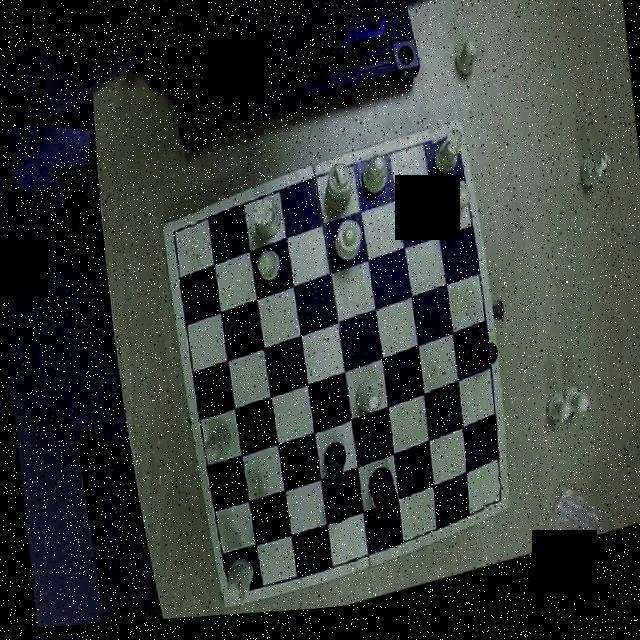chess-table-corners: (426, 124, 462, 164), (162, 212, 198, 250), (216, 572, 248, 608), (478, 490, 506, 524)
